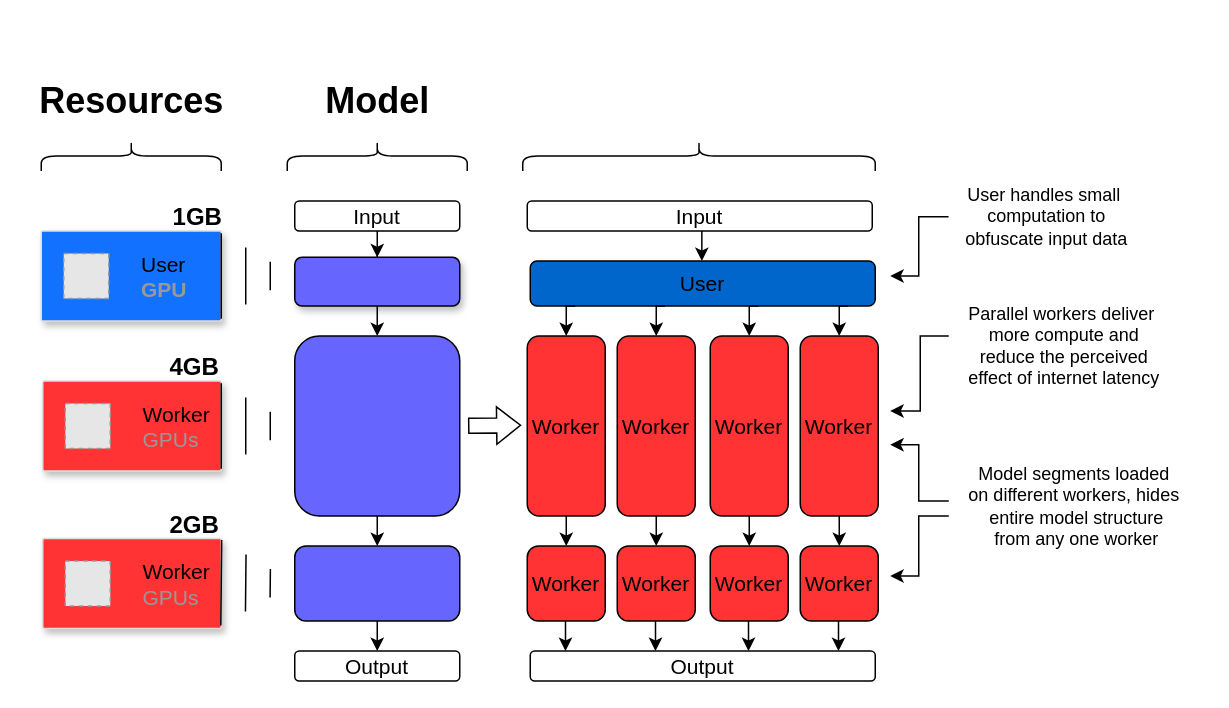
This 1229x708 diagram has some shape labels left out. Grey dashed boxes stand in for pictures. The centre of each missing label's shape, as x and y in pixels:
"Layer 1" belongs at (378,283).
"Layer 2" belongs at (376,425).
"Layer 3" belongs at (376,582).
"Parallelized Distributed Model" belongs at (698,155).
